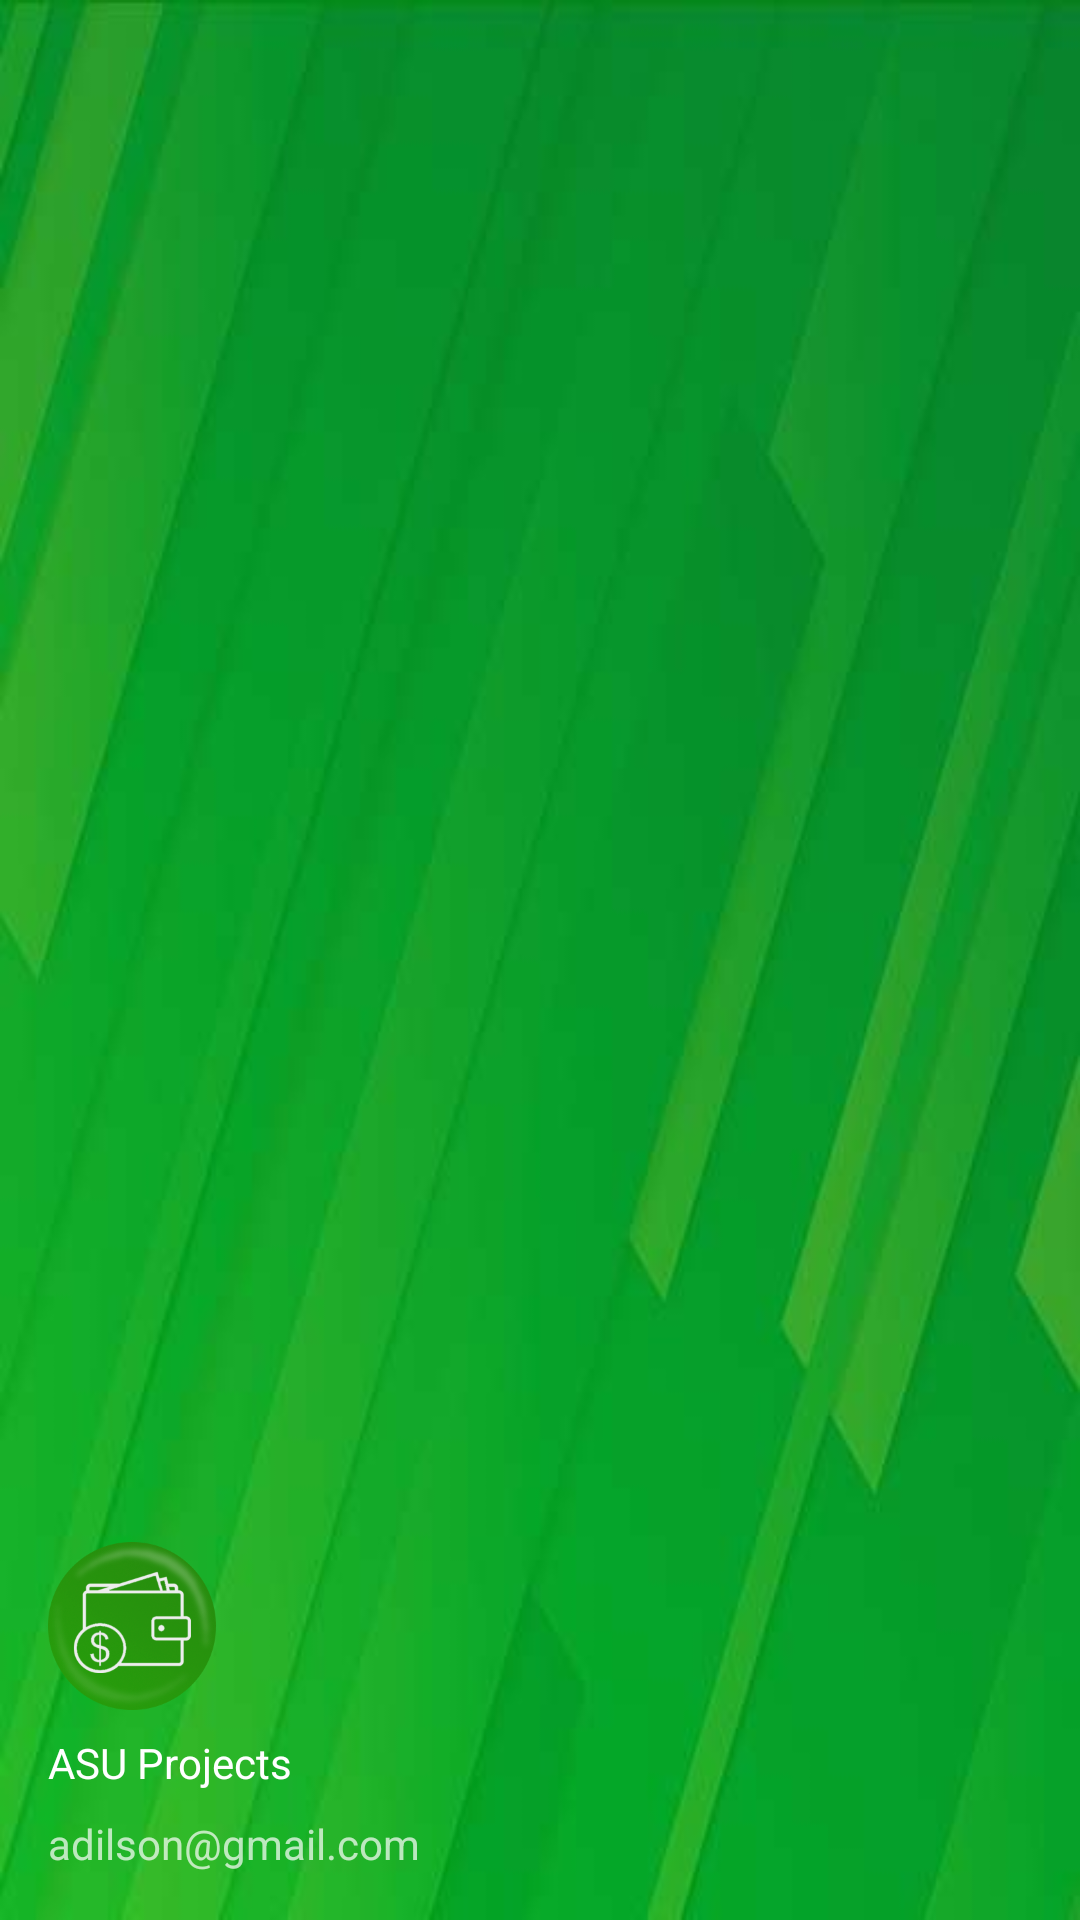

Point at icon controls on the screen. Image size 1080×1920, points as [x,y].
wallet: [132,1626]
